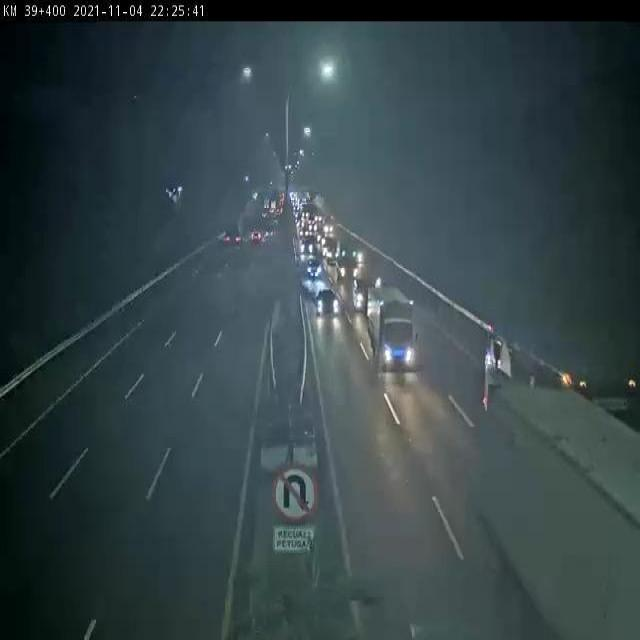bus-l-: (481, 328, 640, 437)
car: (349, 273, 380, 316), (334, 249, 362, 283), (317, 284, 339, 316), (302, 257, 325, 283)
truck-m-: (366, 280, 418, 375)
truck-xl-: (471, 390, 640, 640)
